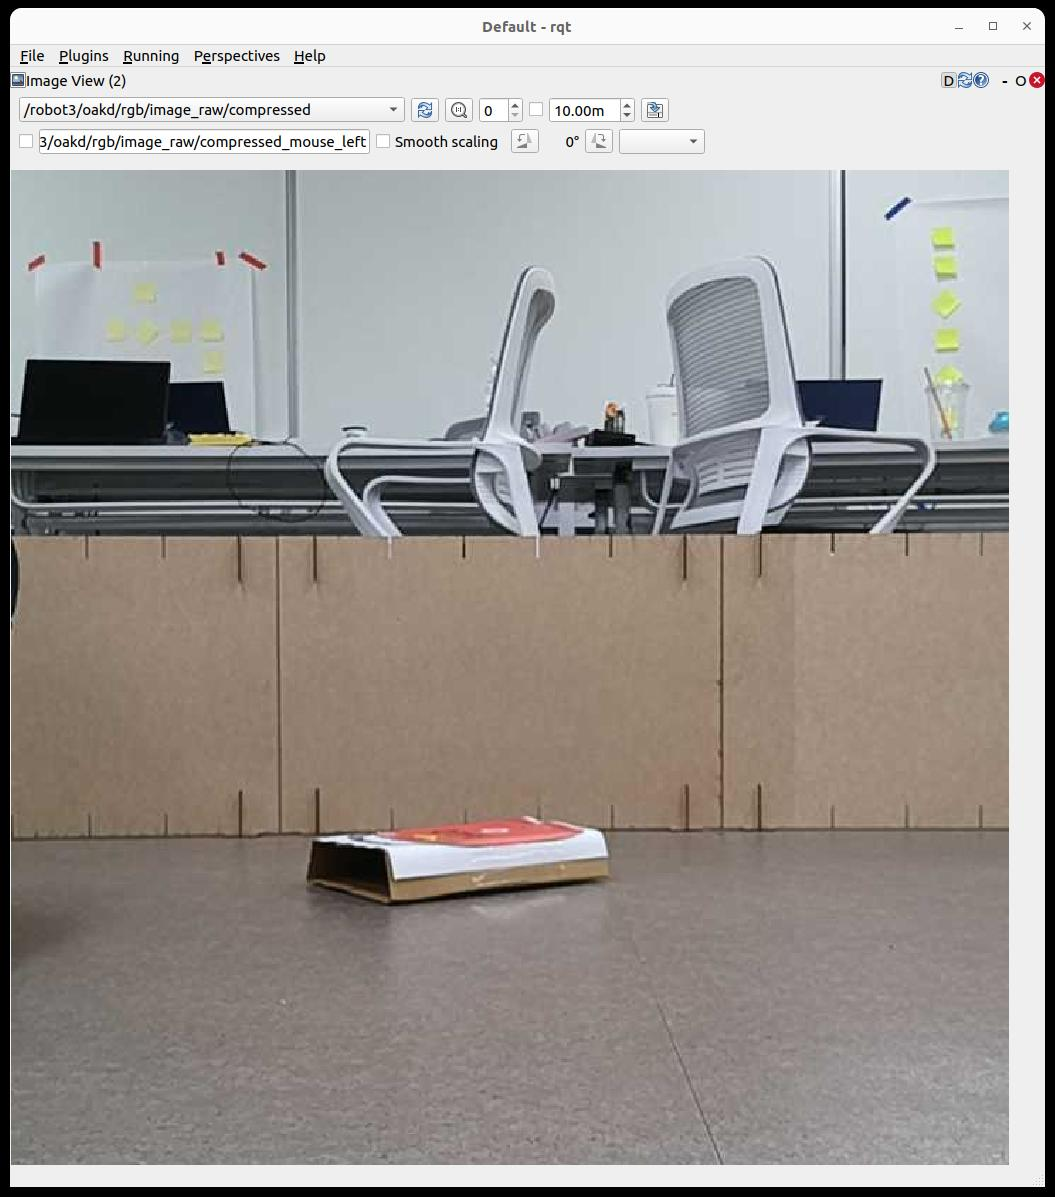AED: (307, 816, 608, 903)
